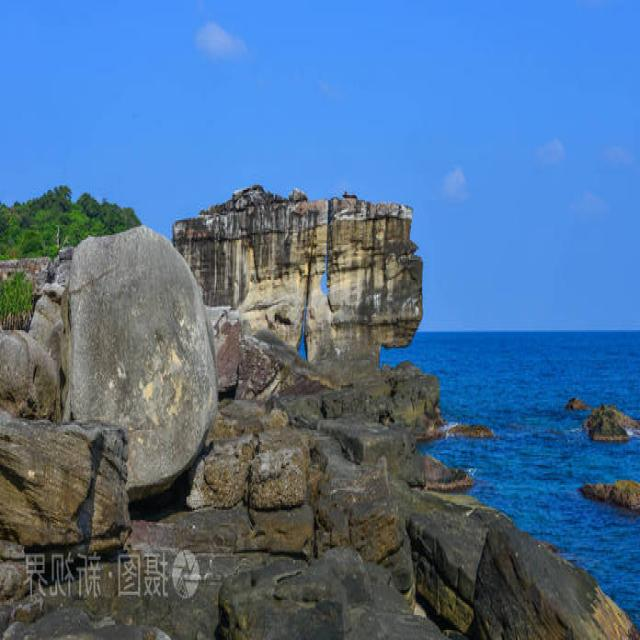reef: (170, 210, 432, 462), (550, 365, 637, 507)
